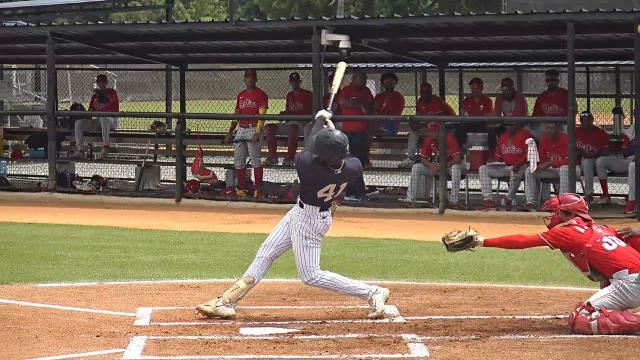bat: (328, 62, 348, 108)
